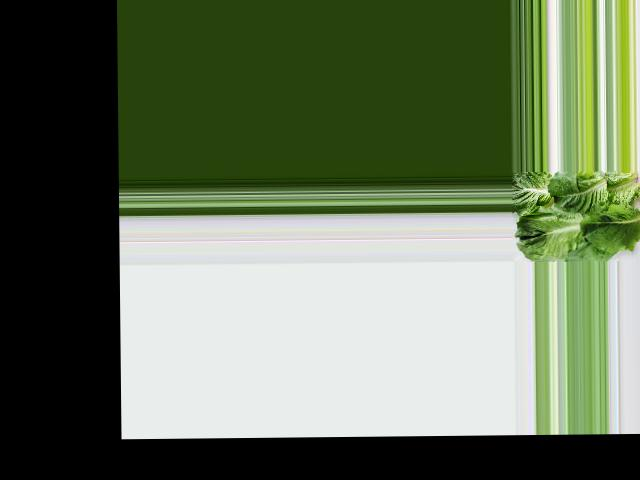lettuce: (514, 169, 640, 259)
